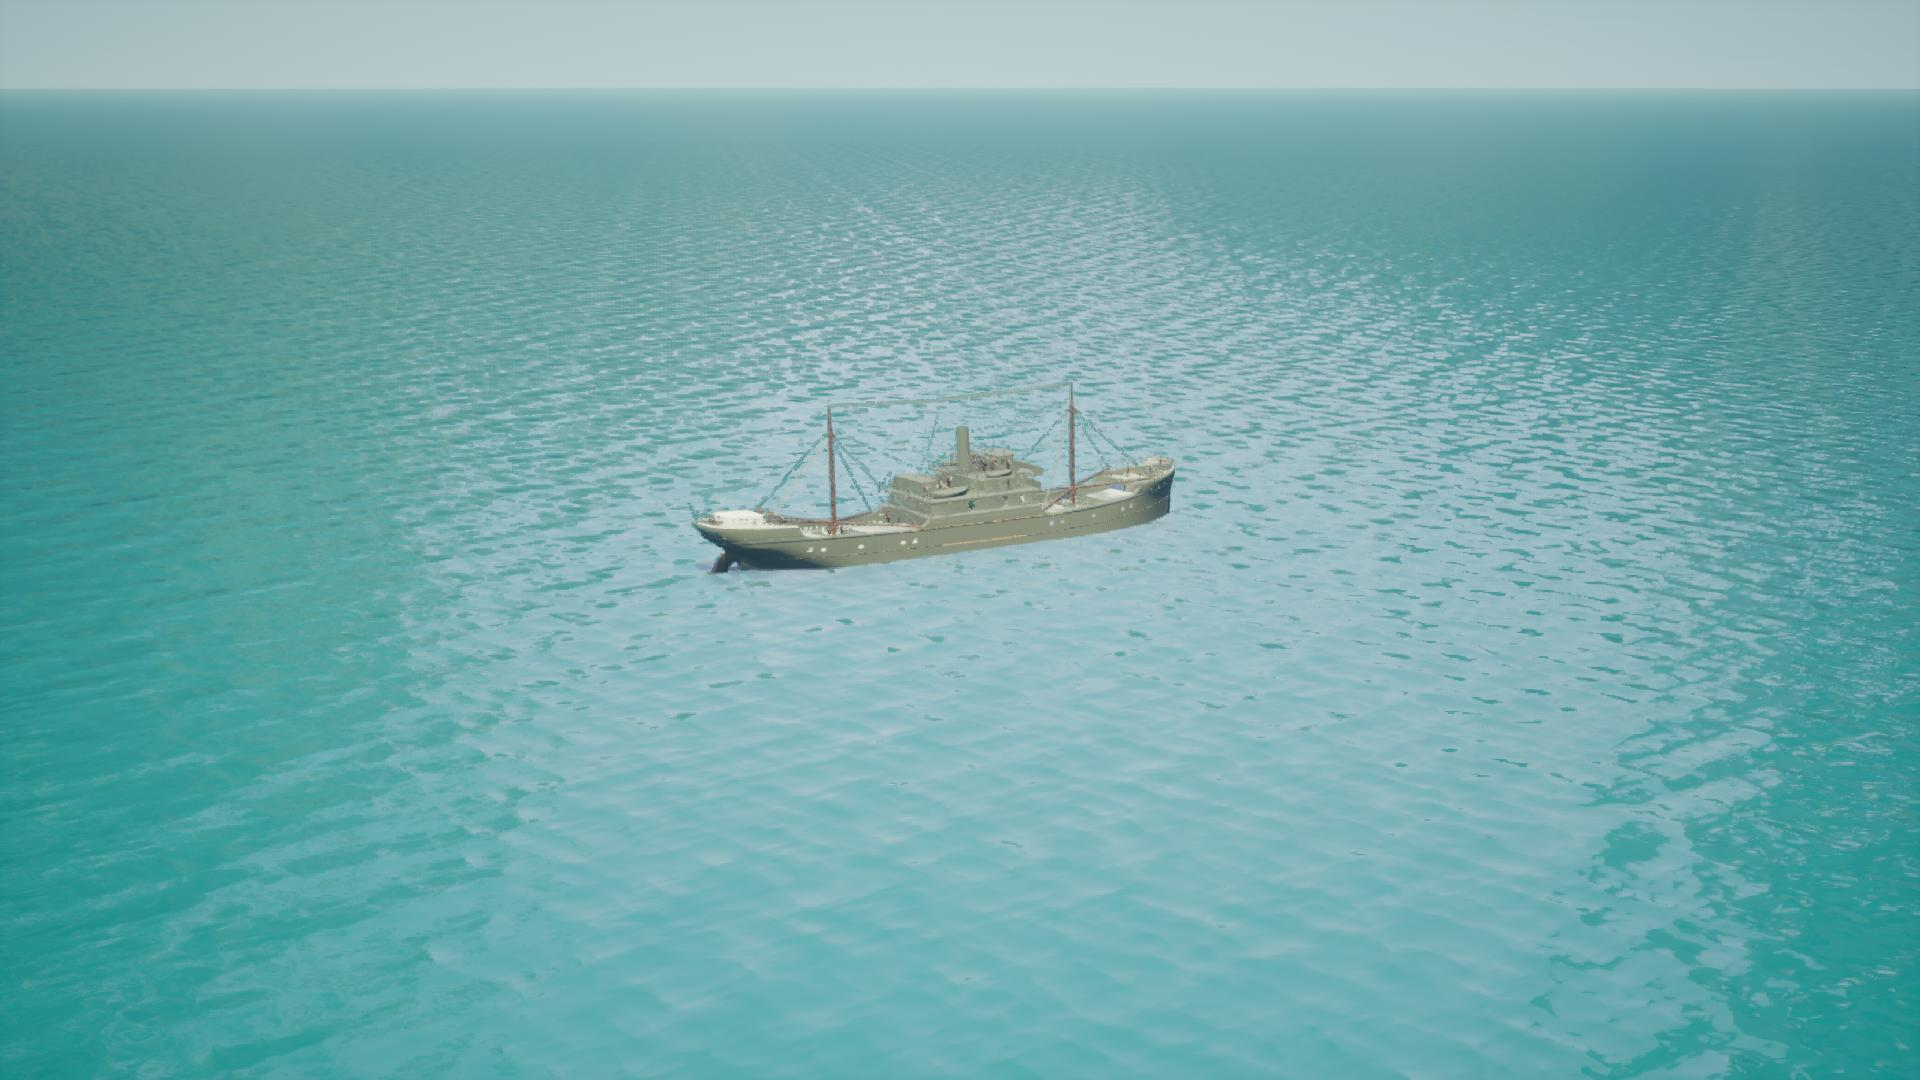Fishing Boat: (698, 396, 1178, 576)
